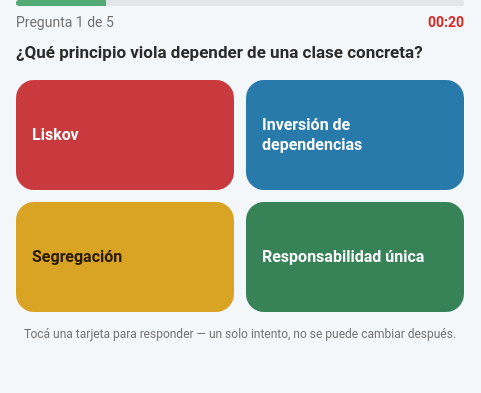
Test: SesionEnVivoEstudiante › responder (US-6.3.9) › un error inesperado avisa y rehabilita las tarjetas
The image size is (481, 393).
Click the button "Liskov" at (125,134), box [16,80,234,190]
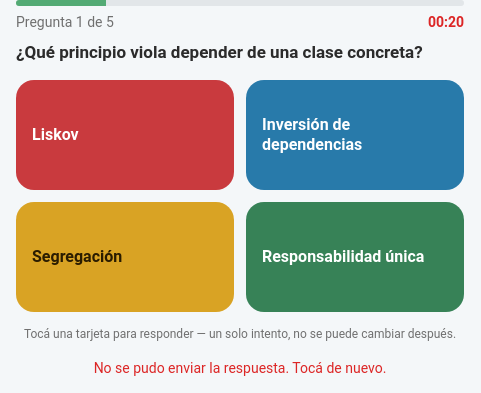
Check: the message shows "No se pudo enviar la respuesta", box [94,360,386,376]
